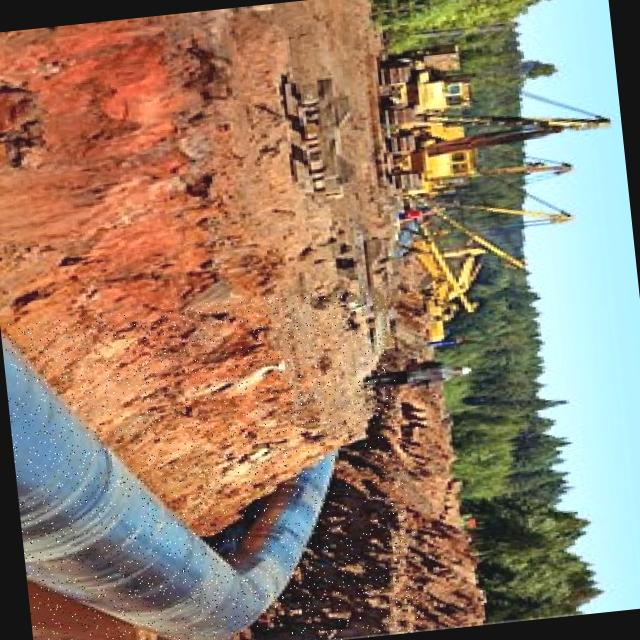gas: (1, 338, 333, 640)
